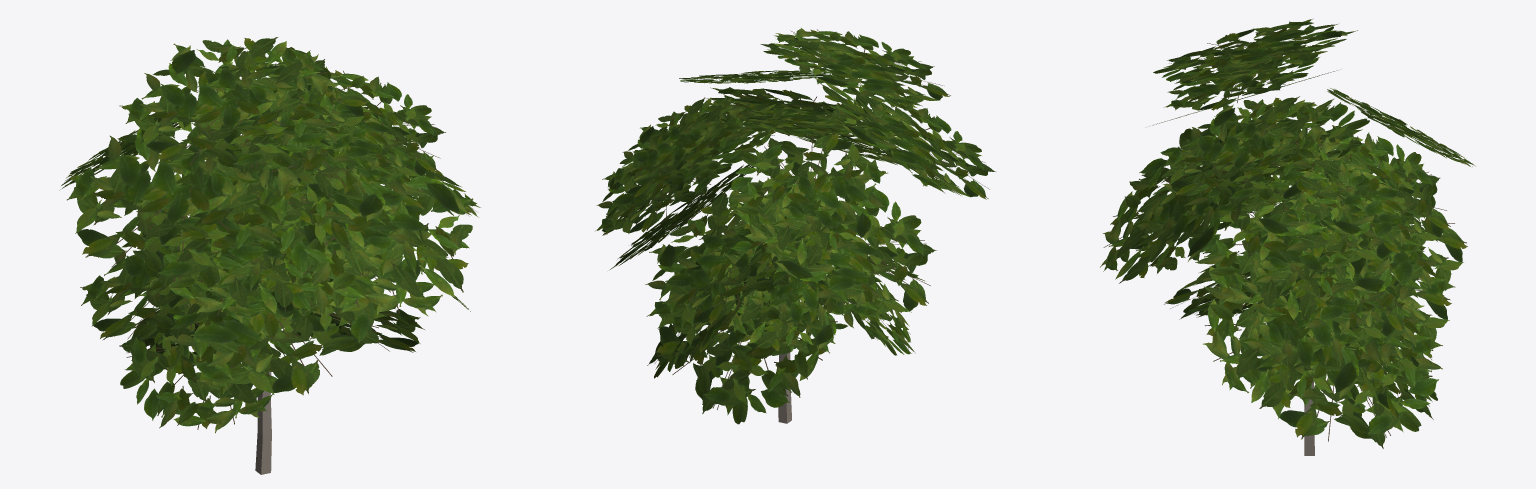
Rendered from mangrove_b_far.glb.
3 views of the same model, side by side, from view 1: azimuth 30°, elevation 25°; view 2: azimuth 150°, elevation 25°; view 3: azimuth 270°, elevation 25° (orthographic). The views are drawn at different scales.
Parts seen in each view (by area): view 1: mangrove_b_far; view 2: mangrove_b_far; view 3: mangrove_b_far.
Part boxes in pixels (x1,y1,x2,y2): mangrove_b_far: (59, 37, 480, 474); mangrove_b_far: (595, 28, 995, 424); mangrove_b_far: (1100, 18, 1475, 455).
Size of the model in its own units: 11.17 by 9.48 by 10.
Materials: 2 (1 with a texture image).
